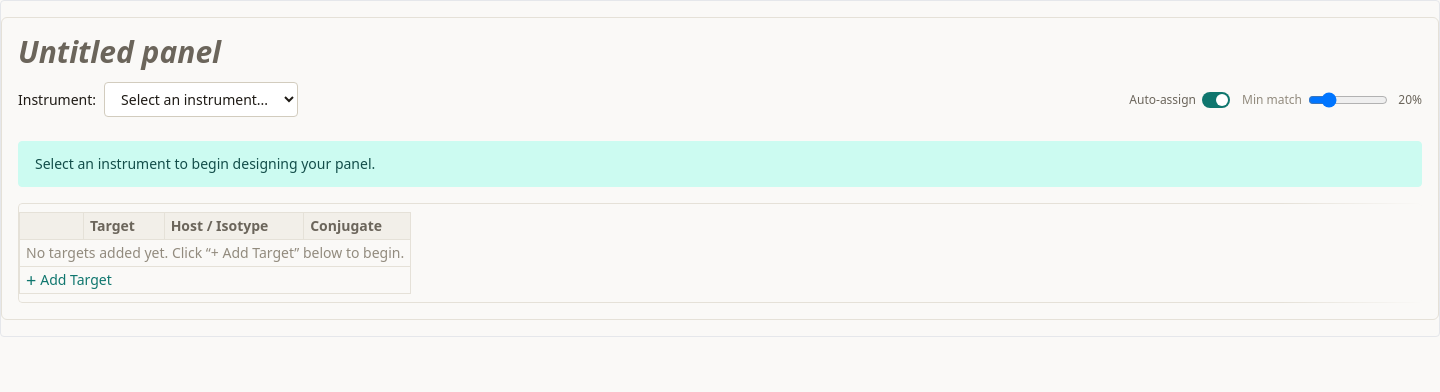
Scenario: FlowPanelView › Test 6 — empty name renders a clickable "Untitled panel" placeholder that is editable
Click the heading "Untitled panel". click: click(120, 52)
box: [18,34,221,70]
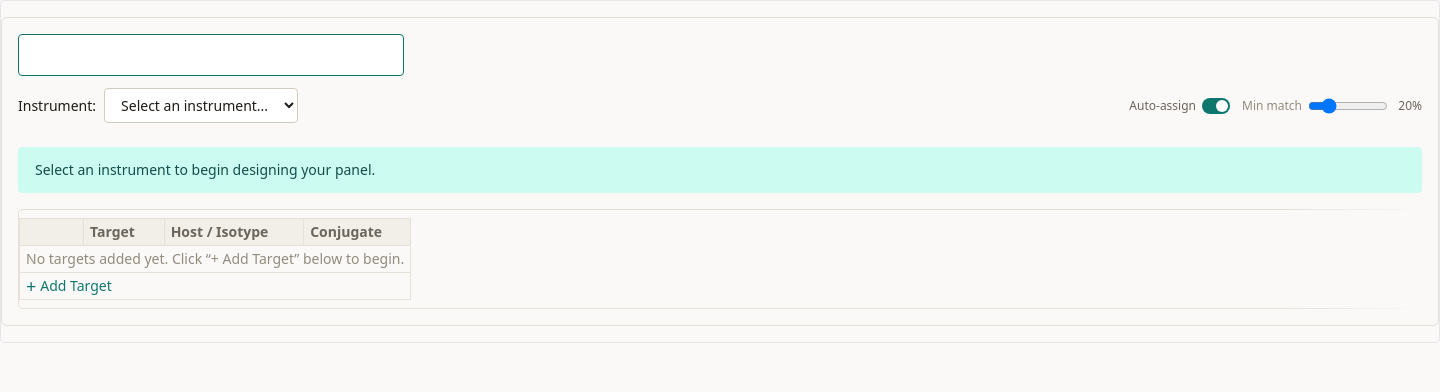
Clicking the placeholder enters edit mode with an empty input
Type "Named Panel" into the field. click: (211, 55)
box: [18,34,404,76]
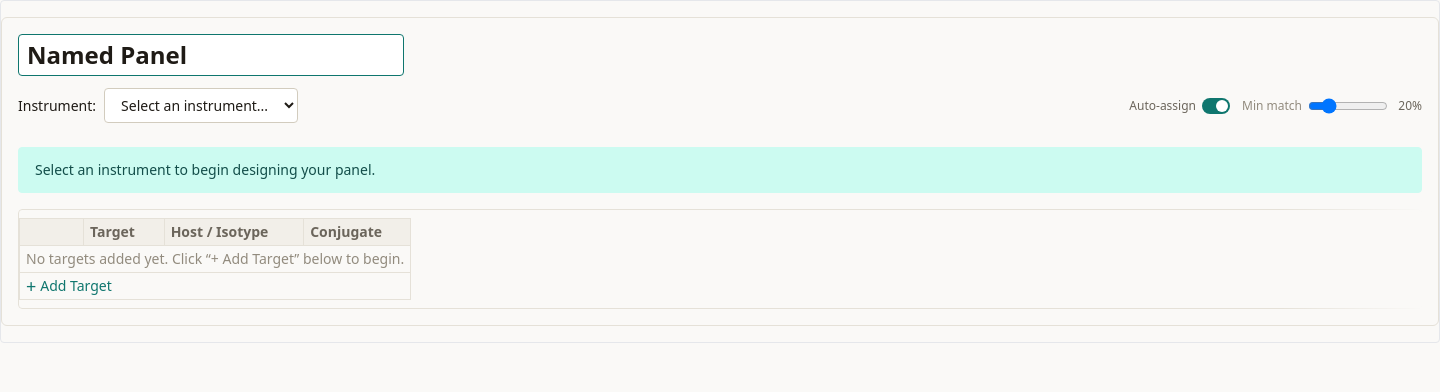
Leave the field, box [18,34,404,76]
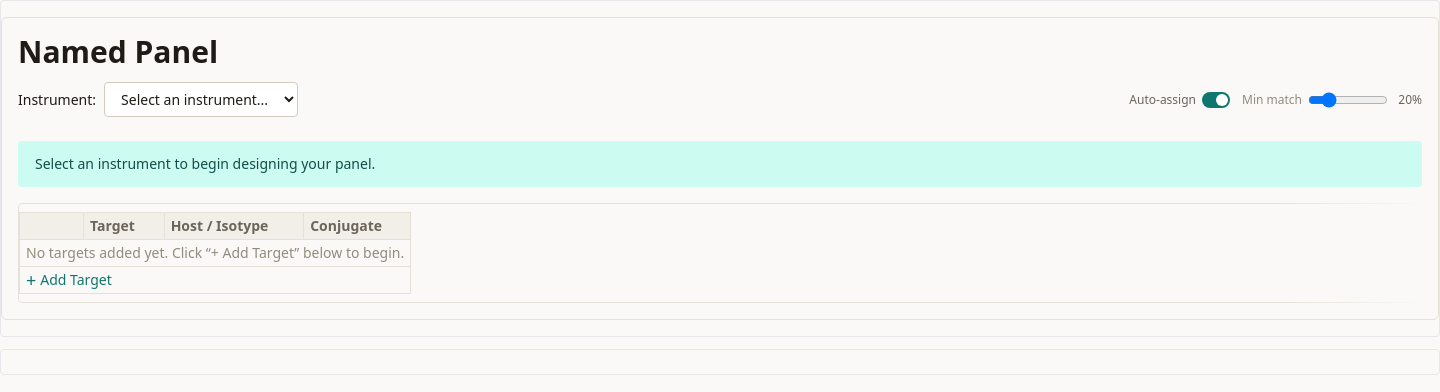
Result: the heading "Named Panel" is shown at [18,34,218,70]
